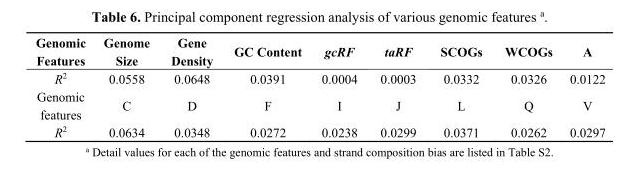table: (34, 34, 604, 139)
table column: (222, 34, 310, 139), (492, 34, 560, 139), (93, 34, 159, 139), (427, 34, 492, 139), (159, 34, 222, 139), (34, 34, 93, 139), (368, 34, 427, 139), (310, 34, 368, 139), (560, 34, 604, 139)
table column header: (34, 34, 604, 68)
table row: (34, 87, 604, 122), (34, 34, 604, 68), (34, 68, 604, 87), (34, 122, 604, 139)
